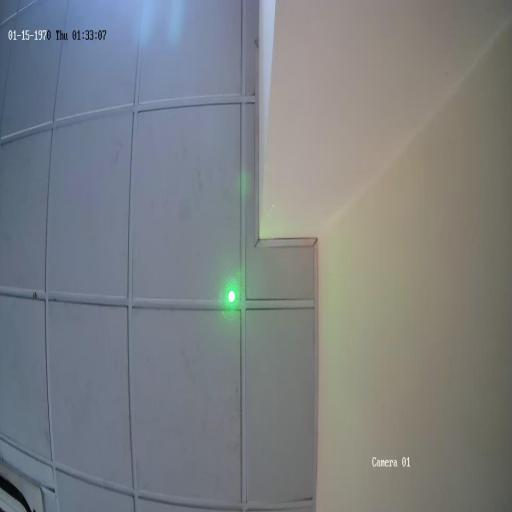laser: (221, 275, 242, 317)
